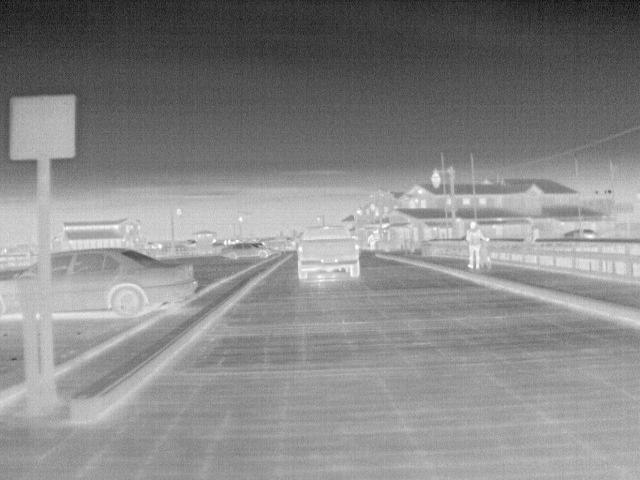car: (54, 249, 200, 319), (297, 222, 363, 280), (1, 262, 35, 318), (220, 240, 279, 259)
person: (465, 220, 491, 271), (365, 233, 378, 252)
